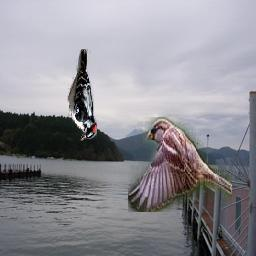Sparrow: (128, 118, 232, 213)
Woodpecker: (67, 49, 97, 141)
